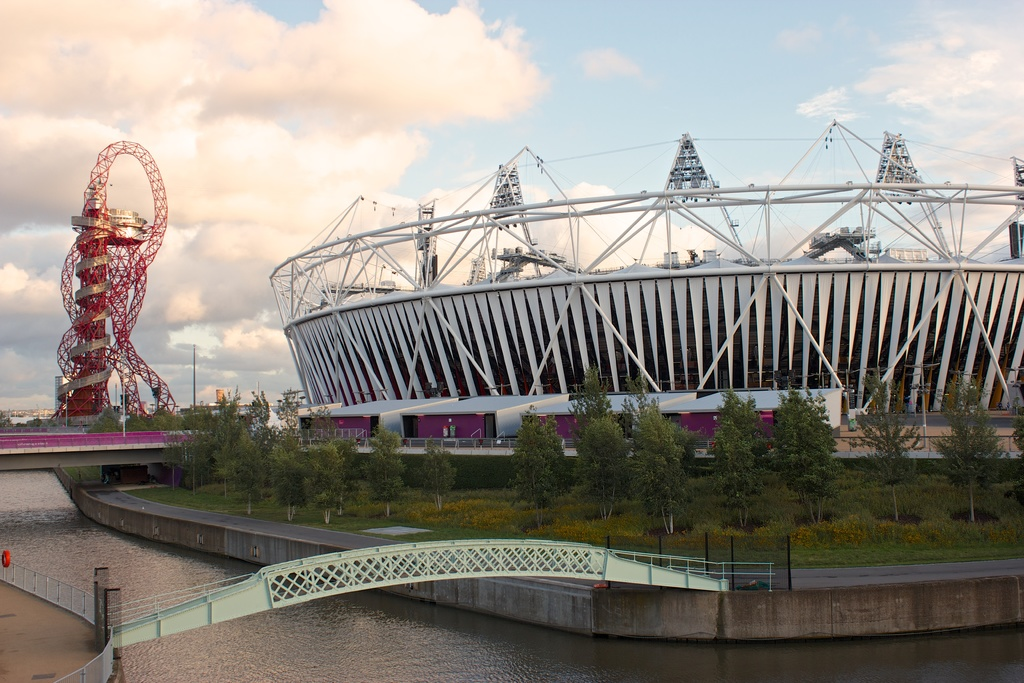Tree: (83, 361, 1023, 535), (16, 415, 57, 426), (2, 412, 14, 426)
